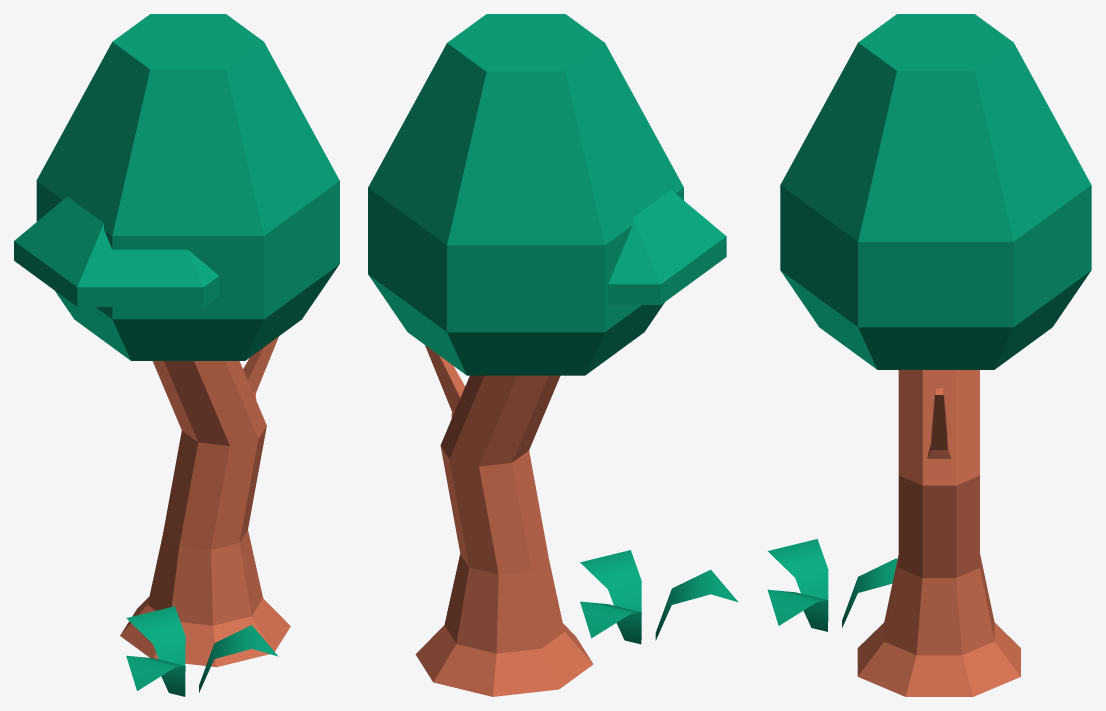
Rendered from TreeTwo.fbx.
3 renders of one model, left to right at view 1: azimuth 30°, elevation 25°; view 2: azimuth 150°, elevation 25°; view 3: azimuth 270°, elevation 25°, orthographic. The views are drawn at different scales.
Visible parts, largest first — view 1: mergedBlocks; view 2: mergedBlocks; view 3: mergedBlocks.
Part boxes in pixels (x1=…): mergedBlocks: x1=14, y1=14, x2=339, y2=696; mergedBlocks: x1=368, y1=14, x2=738, y2=696; mergedBlocks: x1=767, y1=14, x2=1091, y2=696.
Bounding box in the file's own units: 14 × 30 × 14.43.
